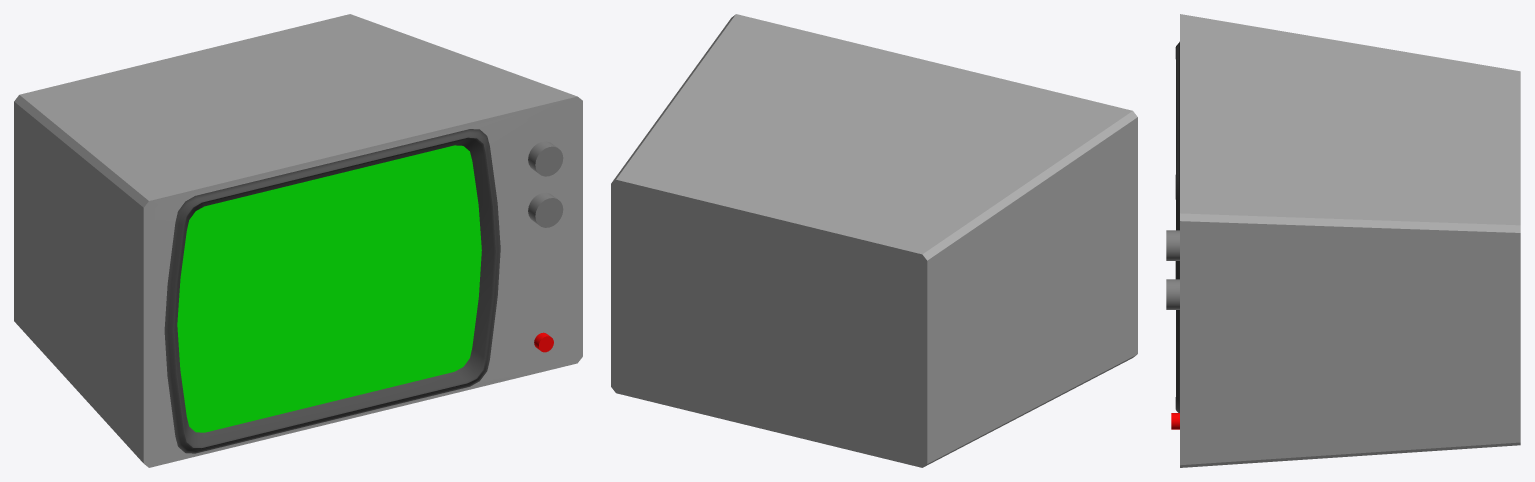
The picture shows the model from 3 angles, left to right: view 1: azimuth 30°, elevation 25°; view 2: azimuth 150°, elevation 25°; view 3: azimuth 270°, elevation 25°; orthographic projection. The views are drawn at different scales.
Visible parts, largest first — view 1: pCylinder4; view 2: pCylinder4; view 3: pCylinder4.
Part boxes in pixels (left/top/right/bottom): pCylinder4: left=14, top=14, right=582, bottom=467; pCylinder4: left=611, top=14, right=1137, bottom=467; pCylinder4: left=1166, top=14, right=1520, bottom=467.
Bounding box in the file's own units: 16.7 × 9.7 × 12.24.
